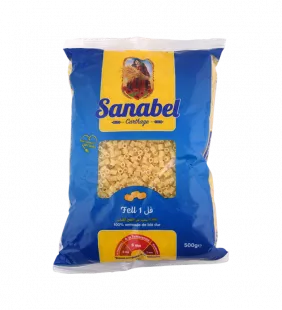SANABEL CARTHAGE: (43, 27, 237, 285)
